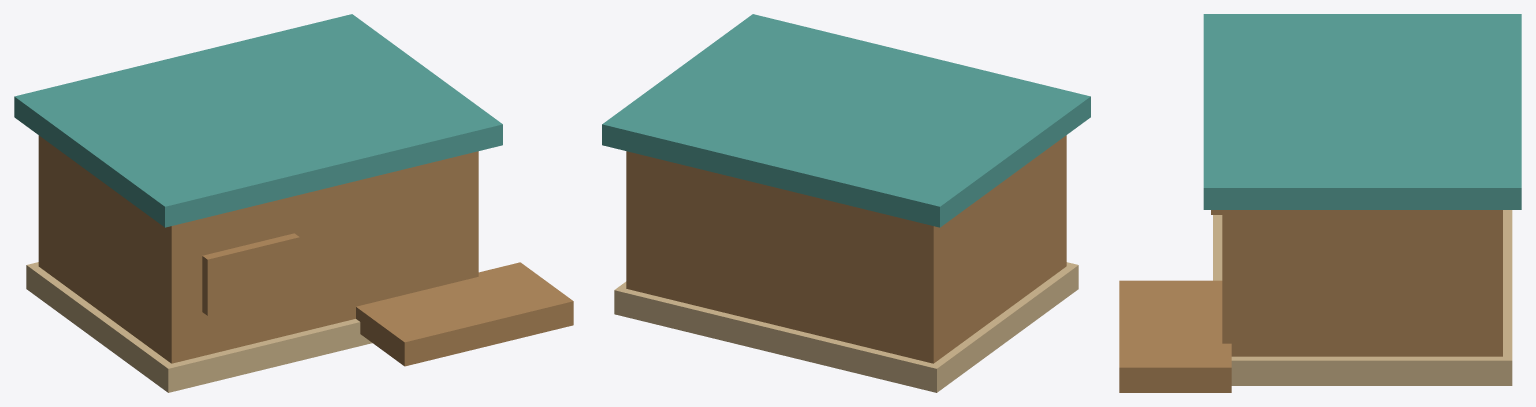
File: office.glb
The picture shows the model from 3 angles, left to right: view 1: azimuth 30°, elevation 25°; view 2: azimuth 150°, elevation 25°; view 3: azimuth 270°, elevation 25°; orthographic projection. The views are drawn at different scales.
Parts seen in each view (by area): view 1: hand-pump-static-shipping-office-roof, hand-pump-static-shipping-office-wall, hand-pump-static-shipping-office-timber, hand-pump-static-shipping-office-stone; view 2: hand-pump-static-shipping-office-roof, hand-pump-static-shipping-office-wall, hand-pump-static-shipping-office-stone; view 3: hand-pump-static-shipping-office-roof, hand-pump-static-shipping-office-wall, hand-pump-static-shipping-office-timber, hand-pump-static-shipping-office-stone.
Boxes of the visible parts, x1,y1,x2,y2 form: hand-pump-static-shipping-office-roof: (14, 14, 502, 227); hand-pump-static-shipping-office-wall: (38, 135, 478, 363); hand-pump-static-shipping-office-timber: (202, 233, 573, 366); hand-pump-static-shipping-office-stone: (26, 262, 372, 392); hand-pump-static-shipping-office-roof: (602, 14, 1090, 227); hand-pump-static-shipping-office-wall: (626, 135, 1066, 363); hand-pump-static-shipping-office-stone: (614, 262, 1078, 392); hand-pump-static-shipping-office-roof: (1203, 14, 1521, 209); hand-pump-static-shipping-office-wall: (1222, 210, 1502, 356); hand-pump-static-shipping-office-timber: (1119, 210, 1231, 392); hand-pump-static-shipping-office-stone: (1213, 210, 1512, 385).
Size of the model in its own units: 4.8 by 2.38 by 4.3.
